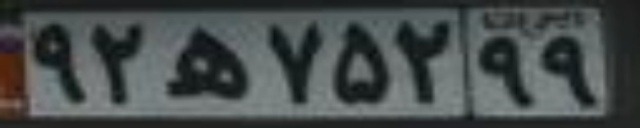2: (394, 19, 459, 105), (87, 21, 148, 103)
5: (327, 21, 389, 102)
7: (263, 20, 320, 105)
9: (32, 23, 84, 105), (475, 35, 534, 106), (540, 36, 597, 106)
he: (162, 24, 248, 99)
